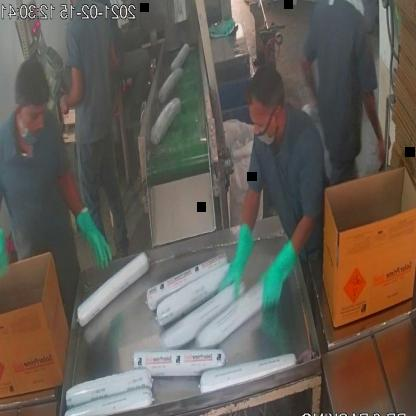glove: (251, 226, 300, 321), (220, 204, 257, 311), (76, 193, 114, 277), (0, 207, 12, 296)
no_glove: (362, 80, 388, 169), (58, 52, 90, 119), (300, 42, 318, 128)
